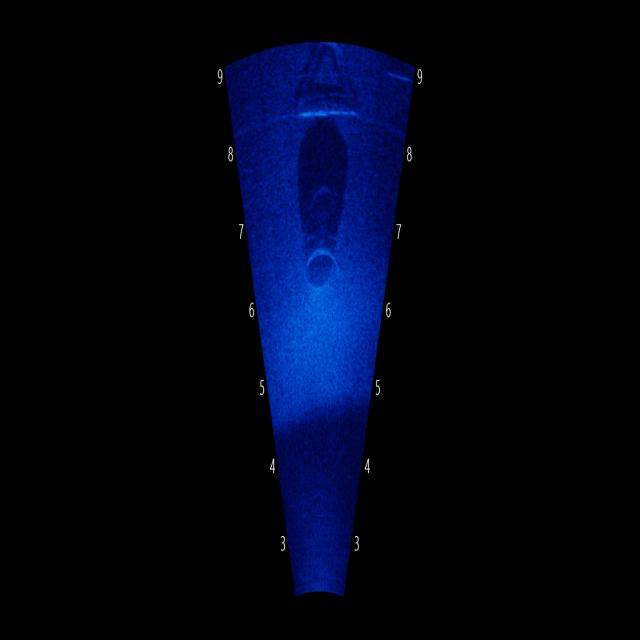circle: (296, 222, 346, 324)
triangle: (286, 38, 358, 138)
